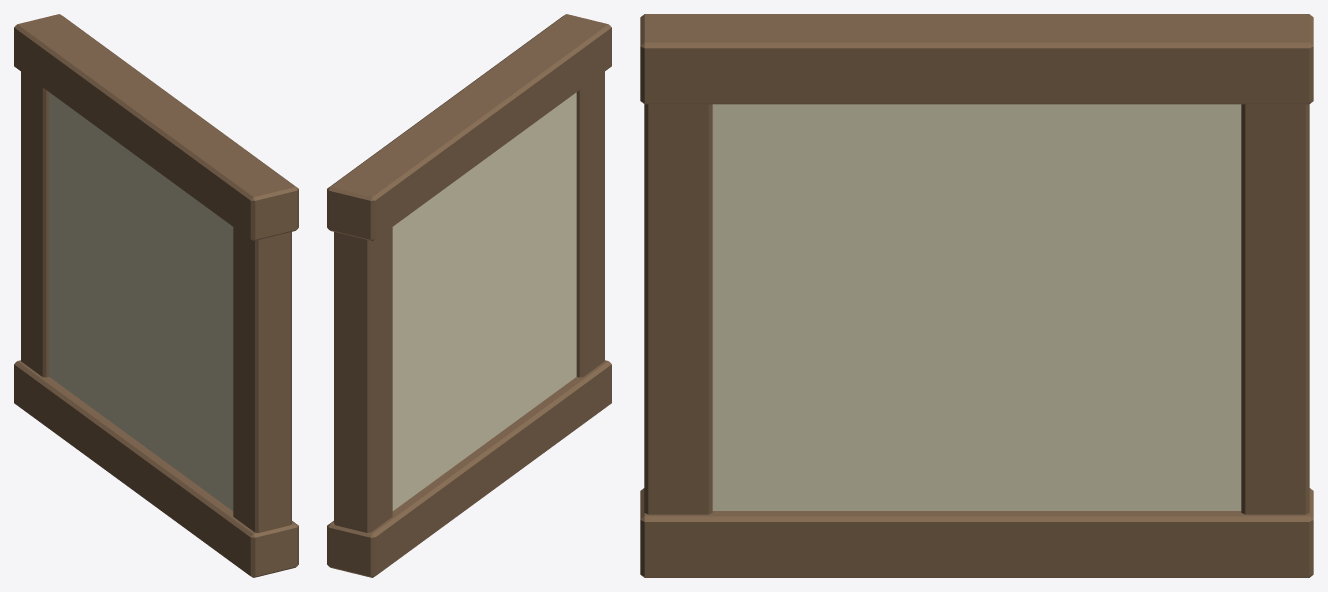
File: Wall.fbx
3 views of the same model, side by side, from view 1: azimuth 30°, elevation 25°; view 2: azimuth 150°, elevation 25°; view 3: azimuth 270°, elevation 25° (orthographic). The views are drawn at different scales.
Parts seen in each view (by area): view 1: Wall_01.003, Plank.026, Plank.023, Plank.024, Plank.022; view 2: Wall_01.003, Plank.026, Plank.022, Plank.024, Plank.023; view 3: Wall_01.003, Plank.026, Plank.024, Plank.022, Plank.023.
Boxes of the visible parts, <box> form: Wall_01.003: <box>49,92,233,510</box>; Plank.026: <box>14,14,298,240</box>; Plank.023: <box>233,227,291,532</box>; Plank.024: <box>14,360,298,577</box>; Plank.022: <box>21,71,49,377</box>; Wall_01.003: <box>392,92,576,510</box>; Plank.026: <box>327,14,611,240</box>; Plank.022: <box>334,227,392,532</box>; Plank.024: <box>327,360,611,577</box>; Plank.023: <box>576,71,604,377</box>; Wall_01.003: <box>712,104,1241,510</box>; Plank.026: <box>640,14,1313,104</box>; Plank.024: <box>640,488,1313,577</box>; Plank.022: <box>1241,104,1309,514</box>; Plank.023: <box>644,104,712,514</box>.
Size of the model in its own units: 52.6 by 397 by 451.
